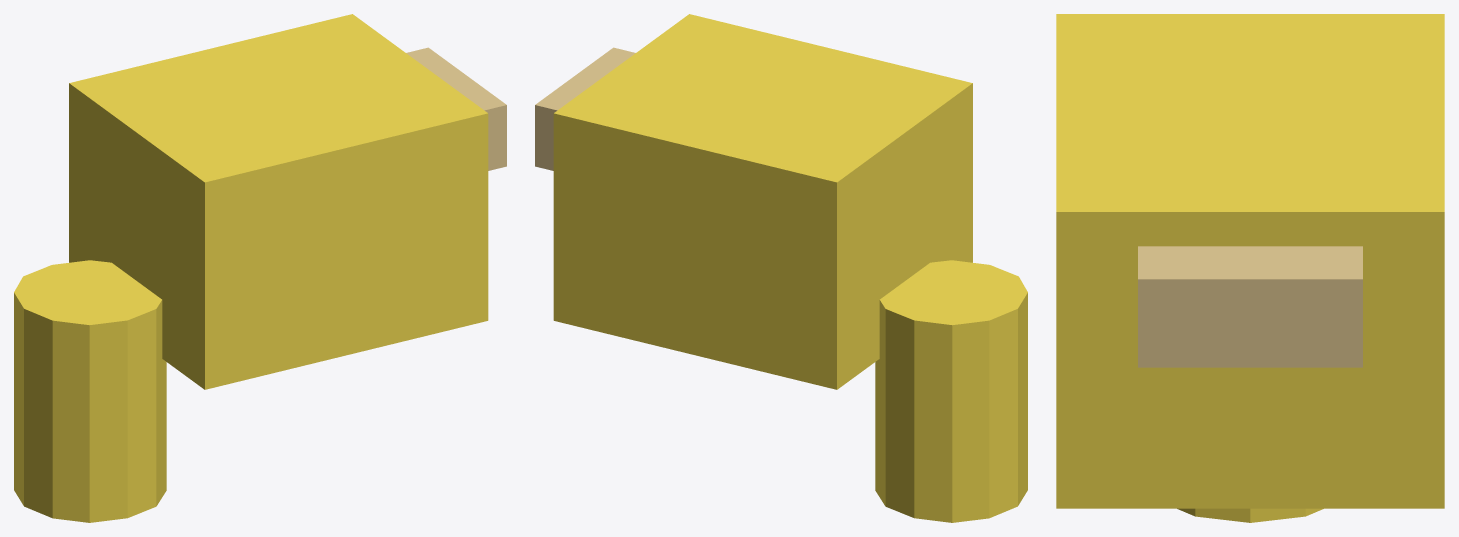
File: pipes_dwv__sewer__837e9cf8.glb
3 views of the same model, side by side, from view 1: azimuth 30°, elevation 25°; view 2: azimuth 150°, elevation 25°; view 3: azimuth 270°, elevation 25° (orthographic). The views are drawn at different scales.
Parts seen in each view (by area): view 1: fix_cord_cap_septic; view 2: fix_cord_cap_septic; view 3: fix_cord_cap_septic.
Part boxes in pixels (x1,y1,x2,y2): fix_cord_cap_septic: (14, 14, 506, 522); fix_cord_cap_septic: (535, 14, 1027, 522); fix_cord_cap_septic: (1056, 14, 1444, 522).
Size of the model in its own units: 0.047 by 0.035 by 0.0249.
